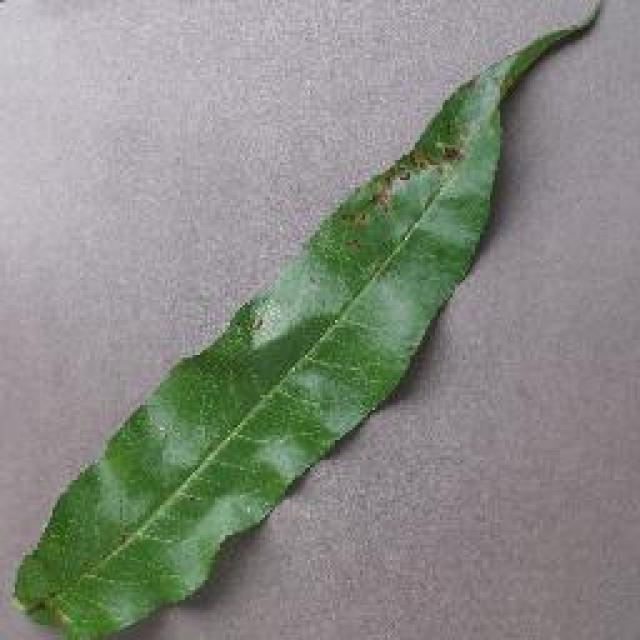Peach_Bacterial_Spot: (328, 100, 507, 295)
